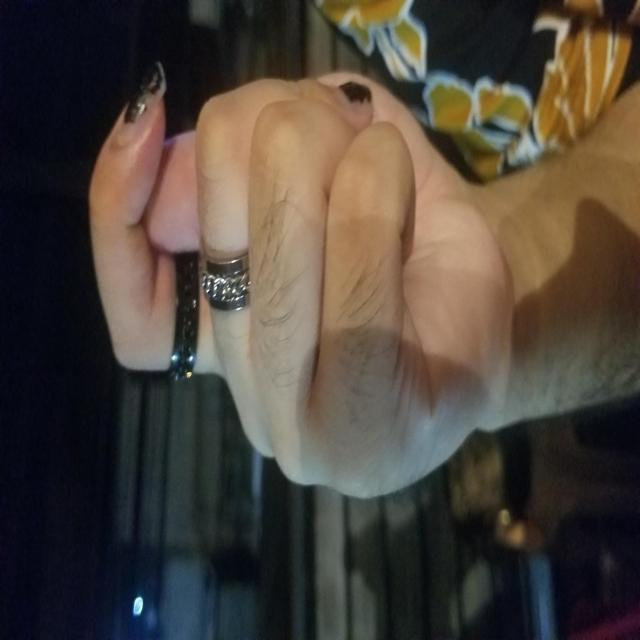T: (135, 86, 580, 511)
